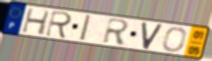H: (20, 7, 52, 36)
I: (79, 14, 93, 43)
O: (161, 27, 189, 54)
R: (101, 17, 132, 47), (44, 10, 74, 40)
V: (141, 21, 165, 51)
